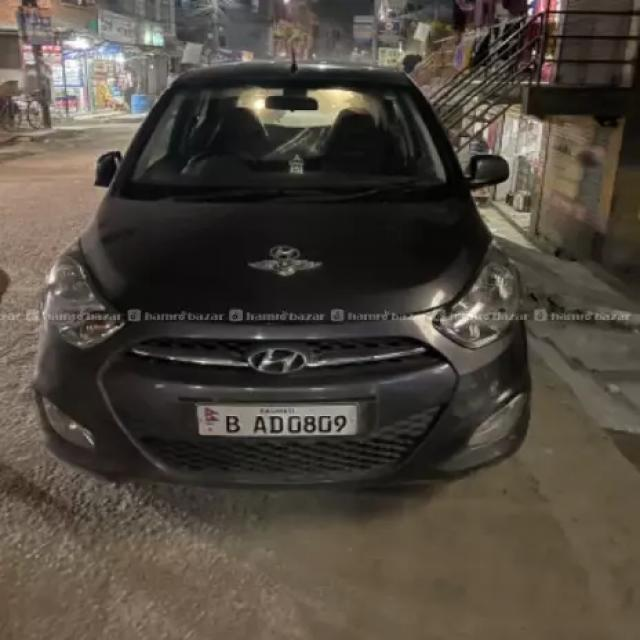License-plate: (191, 400, 361, 439)
